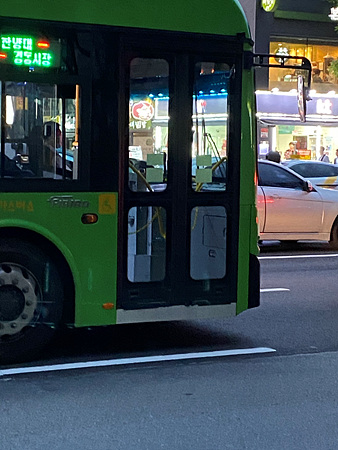entrance: (118, 35, 238, 306)
